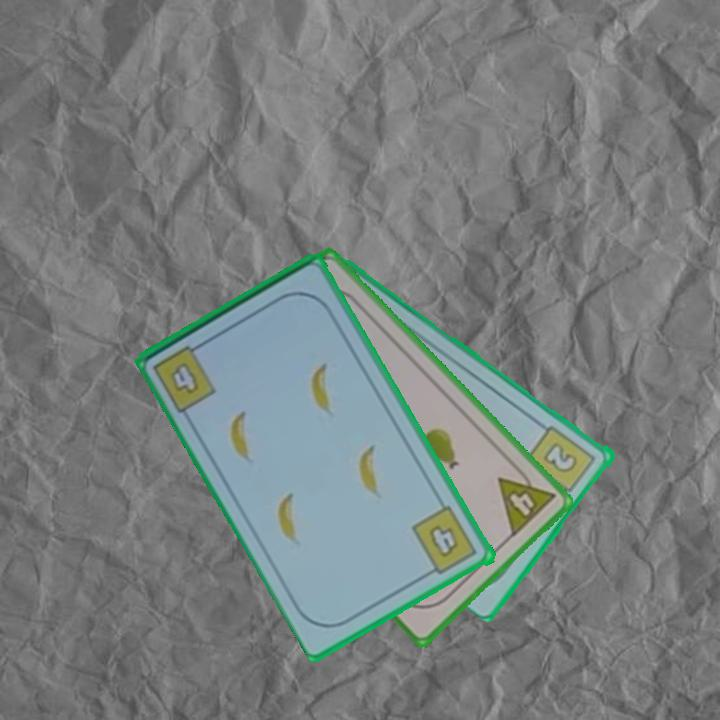2b: (523, 422, 600, 502)
4b: (409, 502, 481, 580), (149, 337, 220, 416)
4p: (494, 459, 558, 540)
